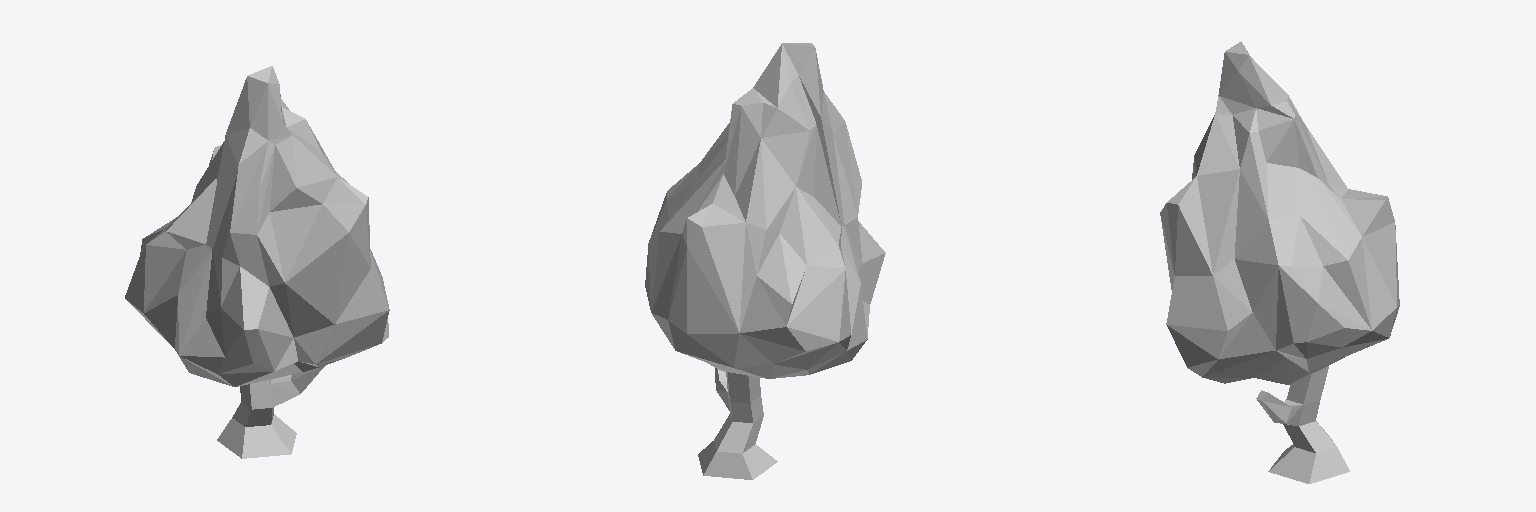
File: tree03.obj
3 views of the same model, side by side, from view 1: azimuth 30°, elevation 25°; view 2: azimuth 150°, elevation 25°; view 3: azimuth 270°, elevation 25° (orthographic).
Parts seen in each view (by area): view 1: SM_Env_Tree_03_Mesh.004; view 2: SM_Env_Tree_03_Mesh.004; view 3: SM_Env_Tree_03_Mesh.004.
Part boxes in pixels (x1,y1,x2,y2): SM_Env_Tree_03_Mesh.004: (125, 66, 389, 458); SM_Env_Tree_03_Mesh.004: (645, 43, 885, 479); SM_Env_Tree_03_Mesh.004: (1160, 41, 1399, 483).
Bounding box in the file's own units: 1.55 × 2.94 × 1.59.